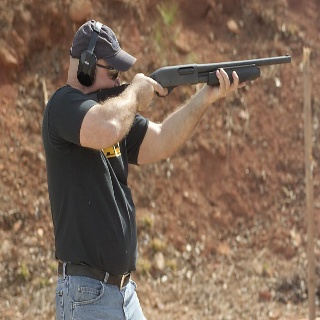shotgun: (79, 52, 295, 111)
